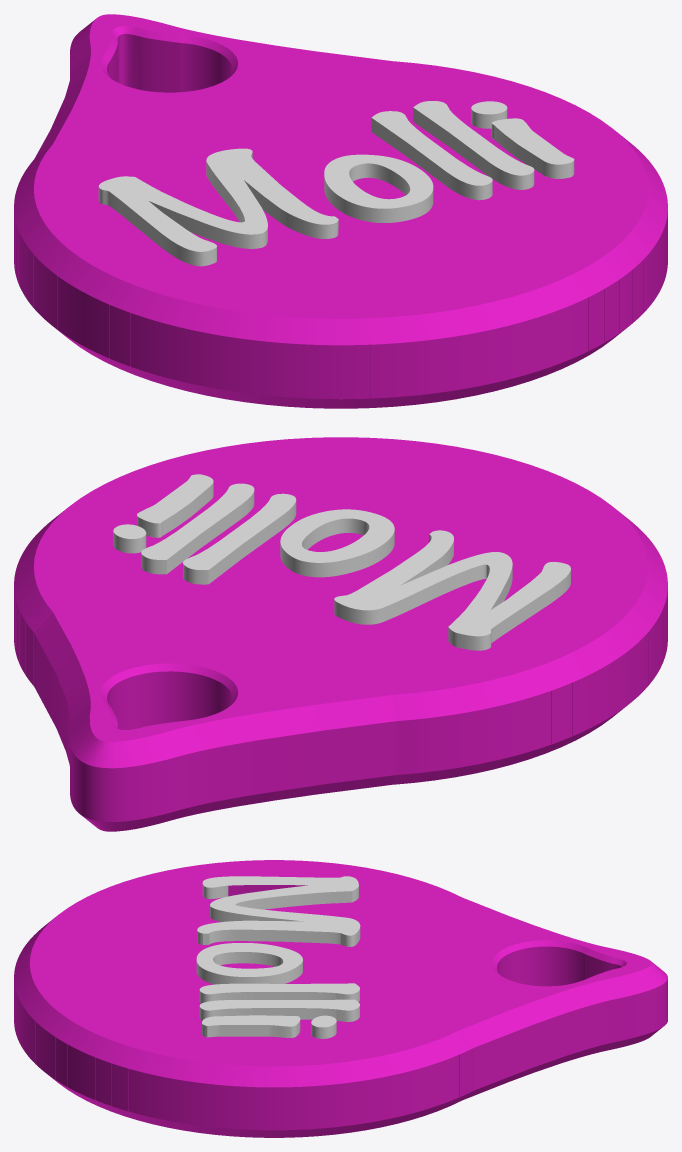
The model's file is testTag.glb.
3 views of the same model, one above another, from view 1: azimuth 30°, elevation 25°; view 2: azimuth 150°, elevation 25°; view 3: azimuth 270°, elevation 25° (orthographic). The views are drawn at different scales.
Size of the model in its own units: 0.033 by 0.0058 by 0.0415.
